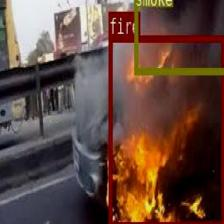fire: (107, 34, 223, 224)
smoke: (133, 0, 224, 73)
